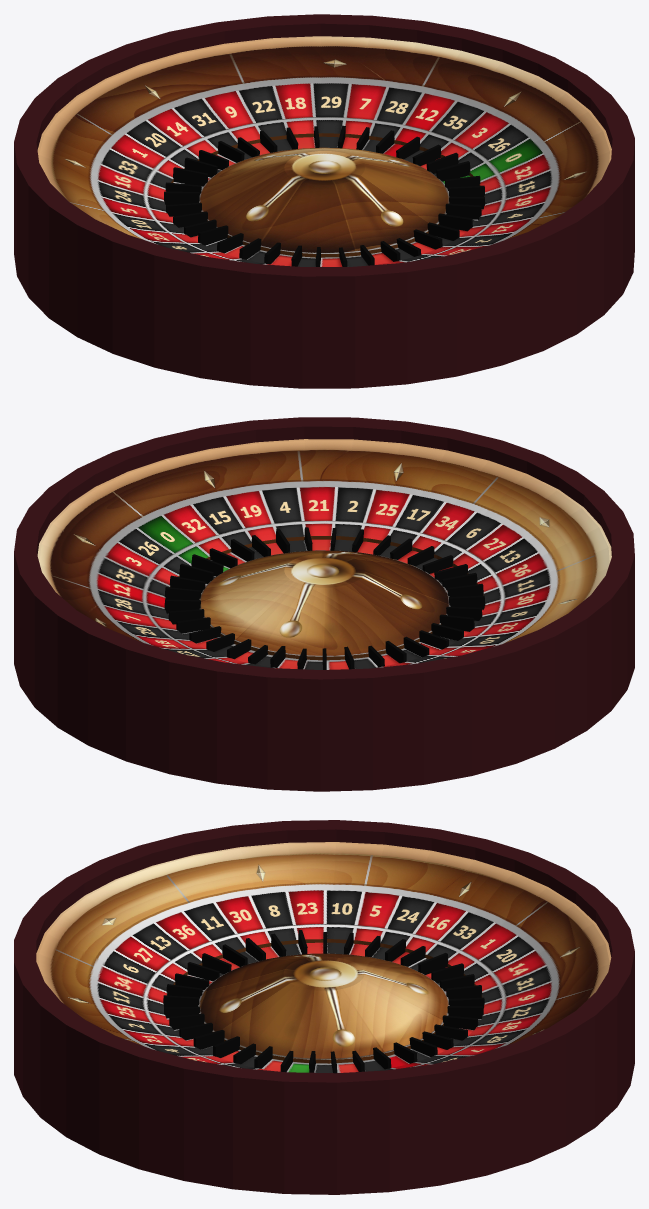
File: unti222tled.gltf
3 renders of one model, top to bottom at view 1: azimuth 30°, elevation 25°; view 2: azimuth 150°, elevation 25°; view 3: azimuth 270°, elevation 25°, orthographic.
Visible parts, largest first — view 1: Circle, carouselle; view 2: Circle, carouselle; view 3: Circle, carouselle.
Part boxes in pixels (x1=…): Circle: x1=14, y1=14, x2=634, y2=388; carouselle: x1=37, y1=36, x2=611, y2=266; Circle: x1=14, y1=417, x2=634, y2=791; carouselle: x1=37, y1=439, x2=611, y2=669; Circle: x1=14, y1=820, x2=634, y2=1194; carouselle: x1=36, y1=842, x2=611, y2=1072.
Size of the model in its own units: 5.83 by 1.16 by 5.82.
3 materials, 1 textured.
